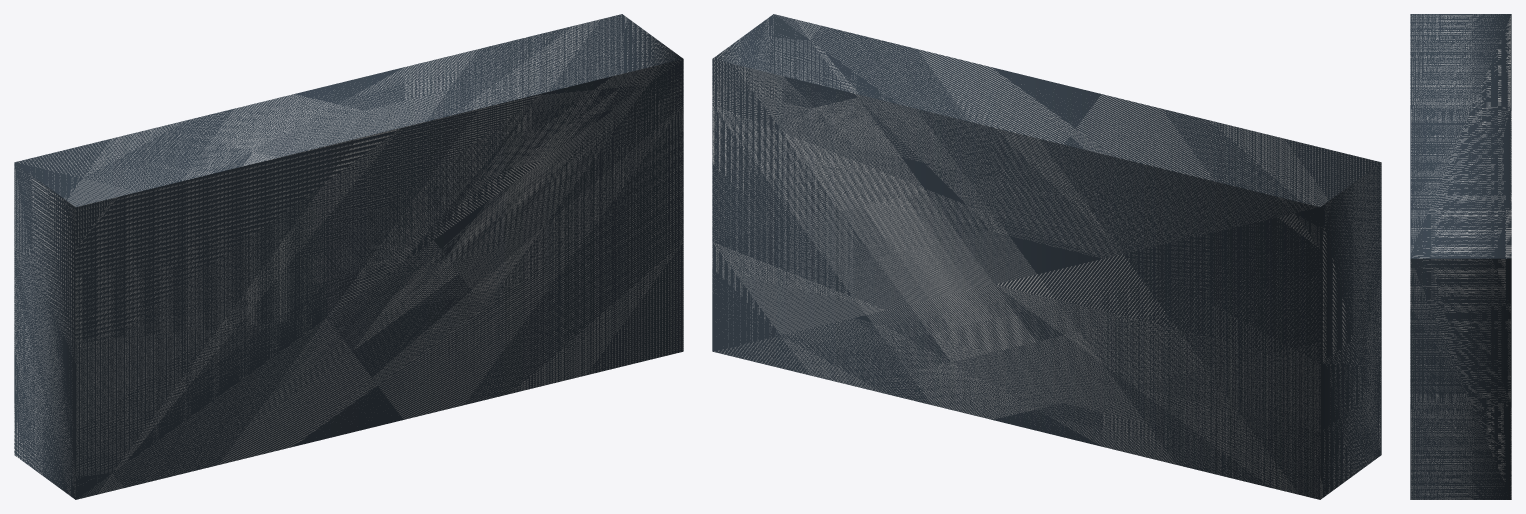
File: original-10.obj
3 views of the same model, side by side, from view 1: azimuth 30°, elevation 25°; view 2: azimuth 150°, elevation 25°; view 3: azimuth 270°, elevation 25° (orthographic). The views are drawn at different scales.
Visible parts, largest first — view 1: 3dw.547ad62bd93988fff0117851f0671fde/Model/mesh1/mesh1-geometry/; view 2: 3dw.547ad62bd93988fff0117851f0671fde/Model/mesh1/mesh1-geometry/; view 3: 3dw.547ad62bd93988fff0117851f0671fde/Model/mesh1/mesh1-geometry/.
Part boxes in pixels (x1,y1,x2,y2): 3dw.547ad62bd93988fff0117851f0671fde/Model/mesh1/mesh1-geometry/: [14, 14, 683, 499]; 3dw.547ad62bd93988fff0117851f0671fde/Model/mesh1/mesh1-geometry/: [712, 14, 1381, 499]; 3dw.547ad62bd93988fff0117851f0671fde/Model/mesh1/mesh1-geometry/: [1410, 14, 1511, 499].
Size of the model in its own units: 0.0246 by 0.0113 by 0.00431.
